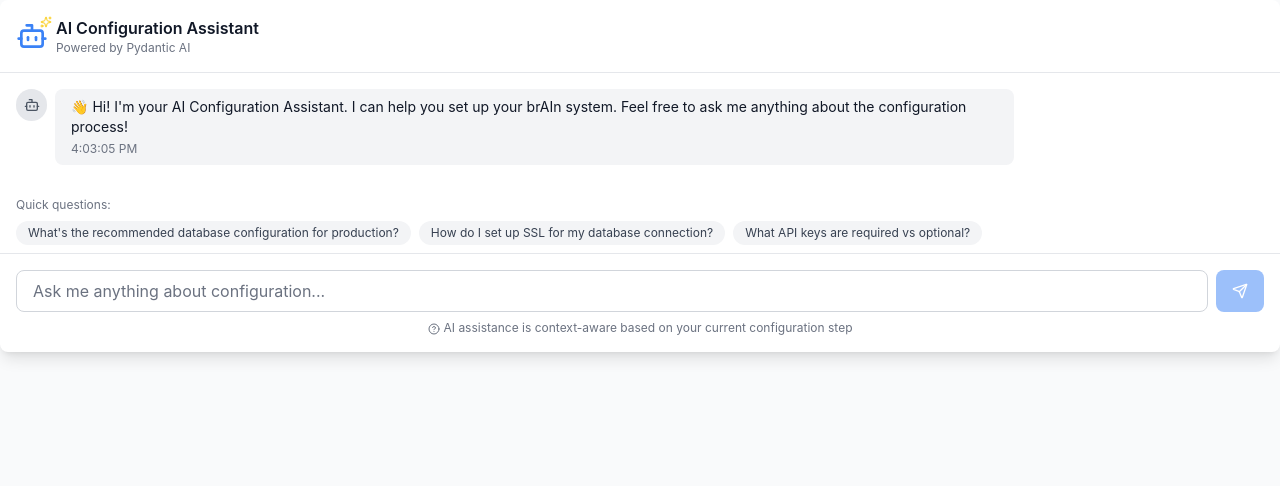
Scenario: ConfigAssistant › AI Response Generation › should display AI response after user message
Type "database" into the field with placeholder "Ask me anything about configuration..." at coordinates (612, 291), box [16,270,1208,312]
Then press Enter
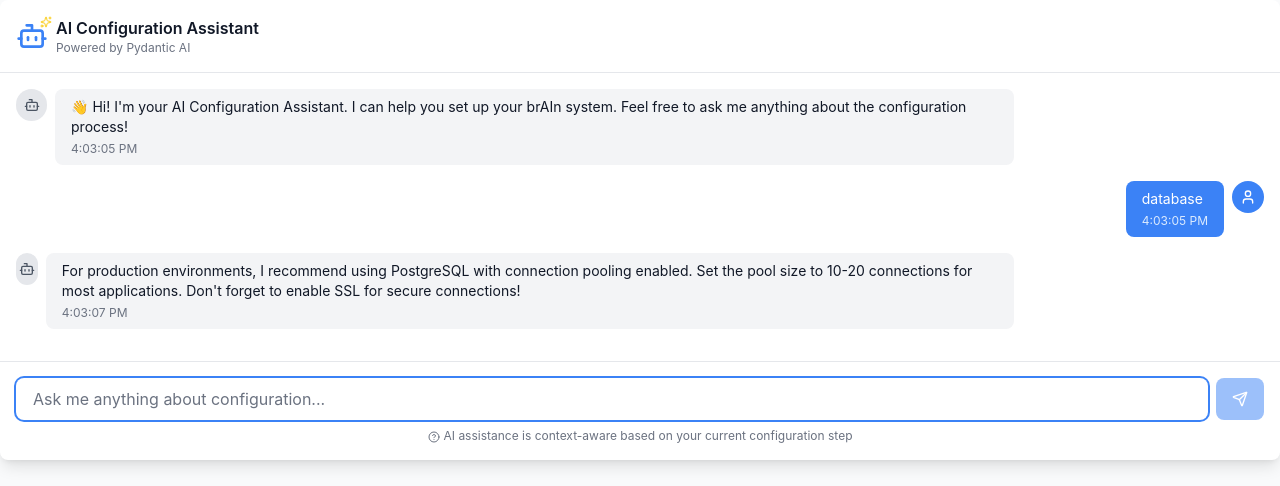
Result: the text "PostgreSQL" is shown at [62,262,976,299]
